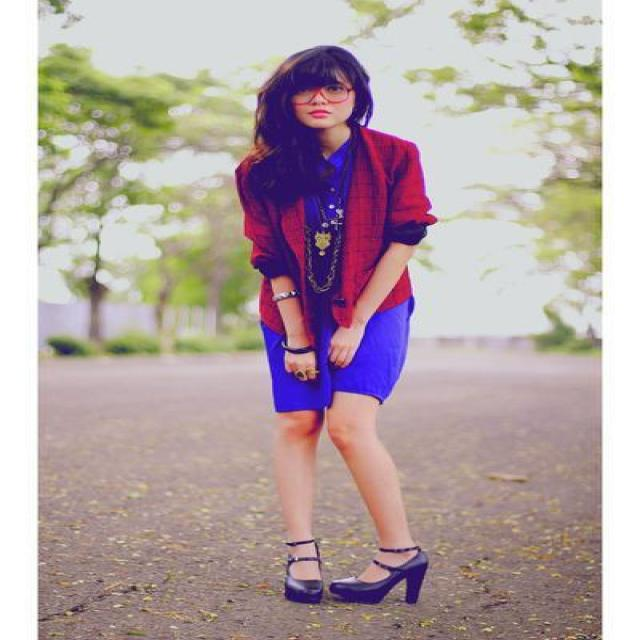dress: (262, 146, 413, 412)
jacket: (237, 128, 435, 336)
shoe: (288, 546, 427, 605)
